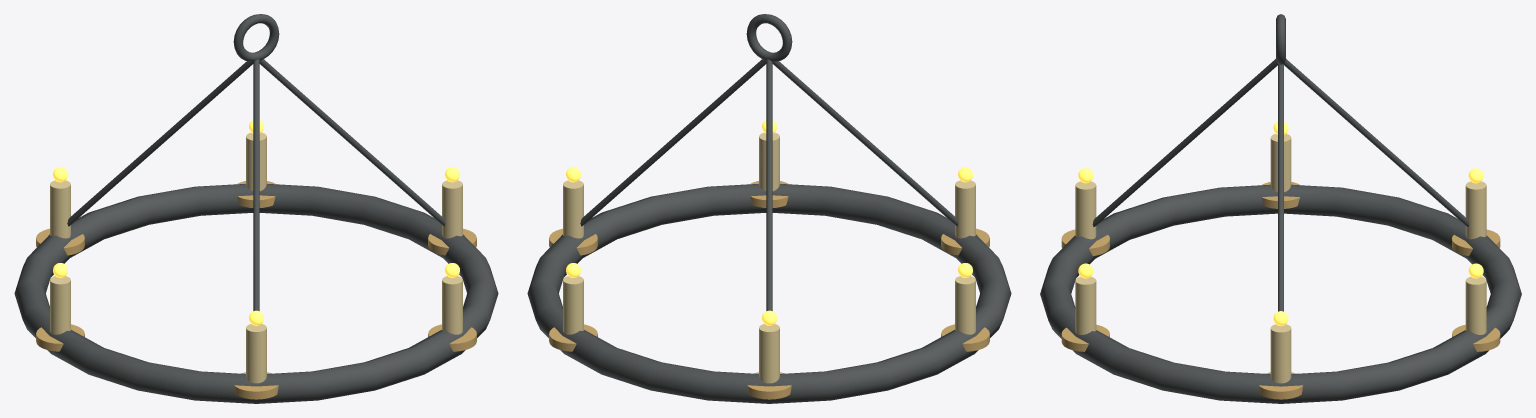
The model's file is adventurers-tavern-and-guild-hall-chandelier-5a0df936__24734.glb.
The picture shows the model from 3 angles, left to right: view 1: azimuth 30°, elevation 25°; view 2: azimuth 150°, elevation 25°; view 3: azimuth 270°, elevation 25°; orthographic projection.
Visible parts, largest first — view 1: chandelier; view 2: chandelier; view 3: chandelier.
Boxes of the visible parts, x1,y1,x2,y2 form: chandelier: (14, 14, 498, 403); chandelier: (527, 14, 1011, 403); chandelier: (1040, 14, 1521, 403).
Size of the model in its own units: 1.44 by 0.9289 by 1.39.
